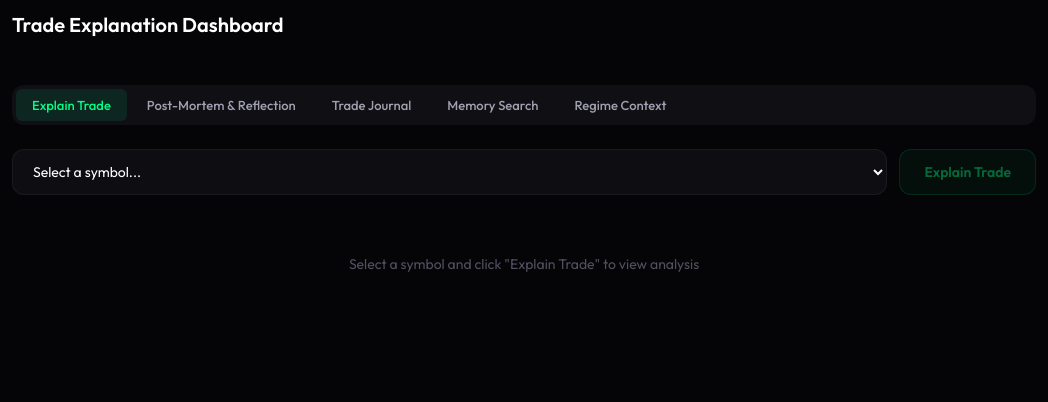
it: TradeIntelligence - Scenario 7: Regime Context Tab › Displays current regime data
This screenshot has width=1048, height=402.
Click the button "Regime Context".
click(620, 105)  # box [558,89,682,121]
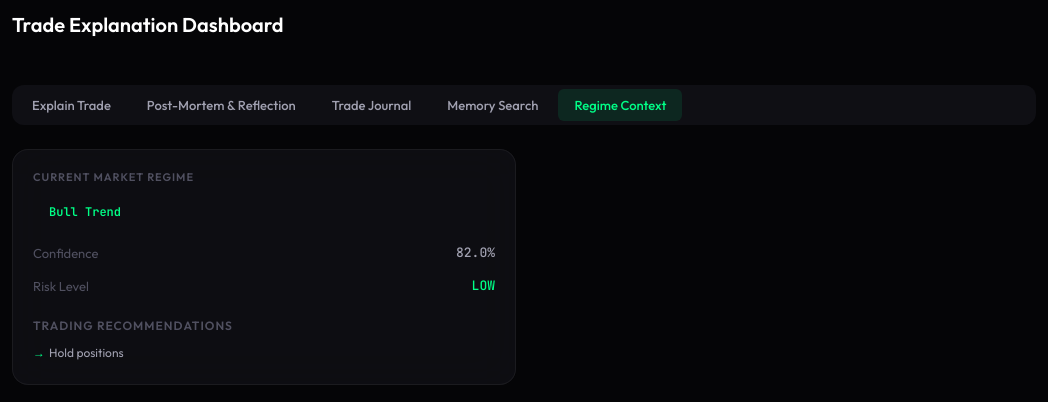
Now the text "Current Market Regime" is shown, box [33,170,194,184]
Now the text "bull trend" is shown, box [49,204,121,220]
Now the text "82.0%" is shown, box [456,244,495,261]
